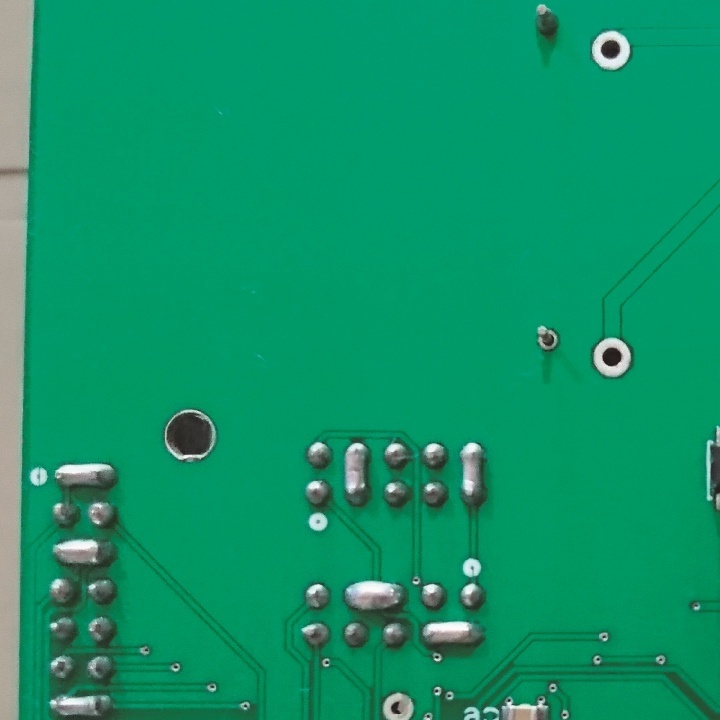F: (590, 335, 635, 381), (590, 28, 633, 76), (377, 689, 420, 720), (533, 321, 561, 355)
P: (51, 460, 121, 494), (418, 615, 484, 651), (50, 535, 119, 569), (339, 437, 372, 506), (340, 578, 406, 612), (457, 438, 487, 508), (45, 690, 113, 719)
